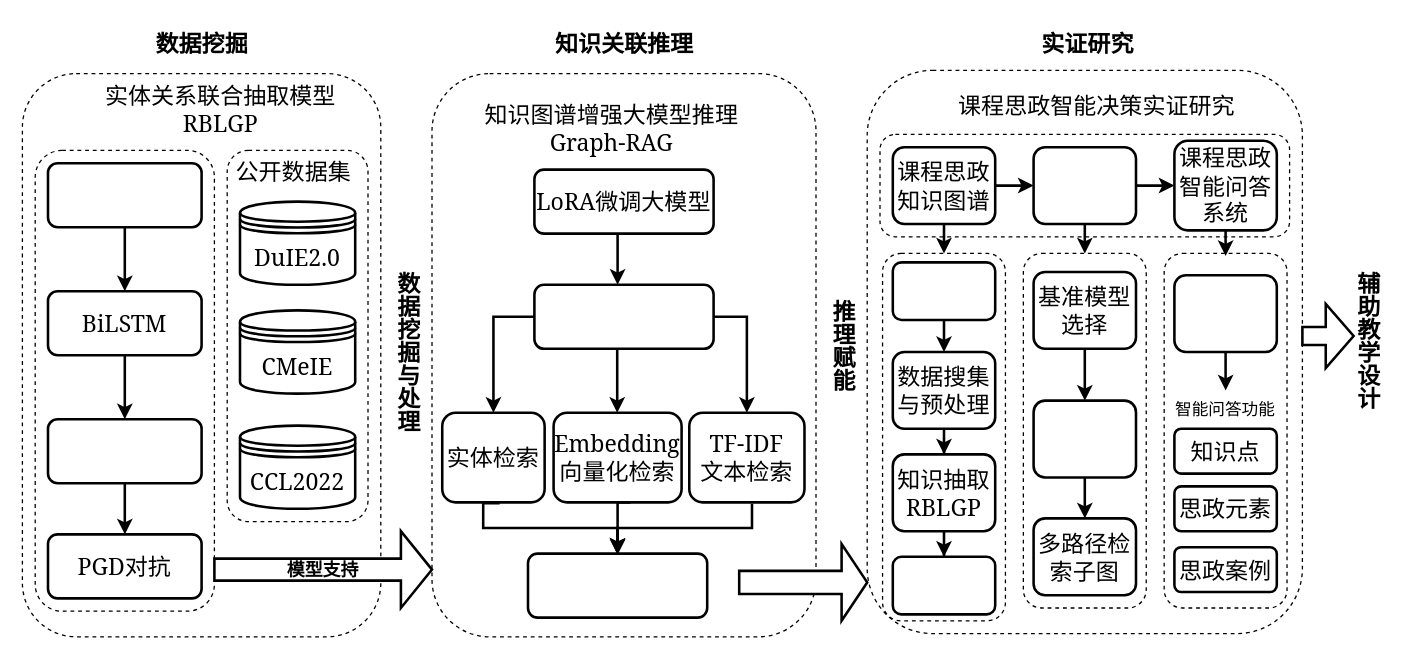
This 1414x659 diagram has some shape labels left out. Each missing label, with the box of its shape:
GPLinker解码: (46, 417, 202, 484)
Graph-RAG: (1032, 399, 1137, 478)
RoBERTa编码: (46, 161, 202, 228)
多路径检索策略: (532, 283, 714, 349)
多跳子图探索: (526, 552, 708, 618)
推理支撑: (737, 542, 868, 621)
本体构建: (891, 260, 996, 321)
知识图谱展示: (1172, 273, 1277, 353)
知识存储: (891, 555, 996, 615)
课程思政大模型: (1032, 145, 1137, 225)
